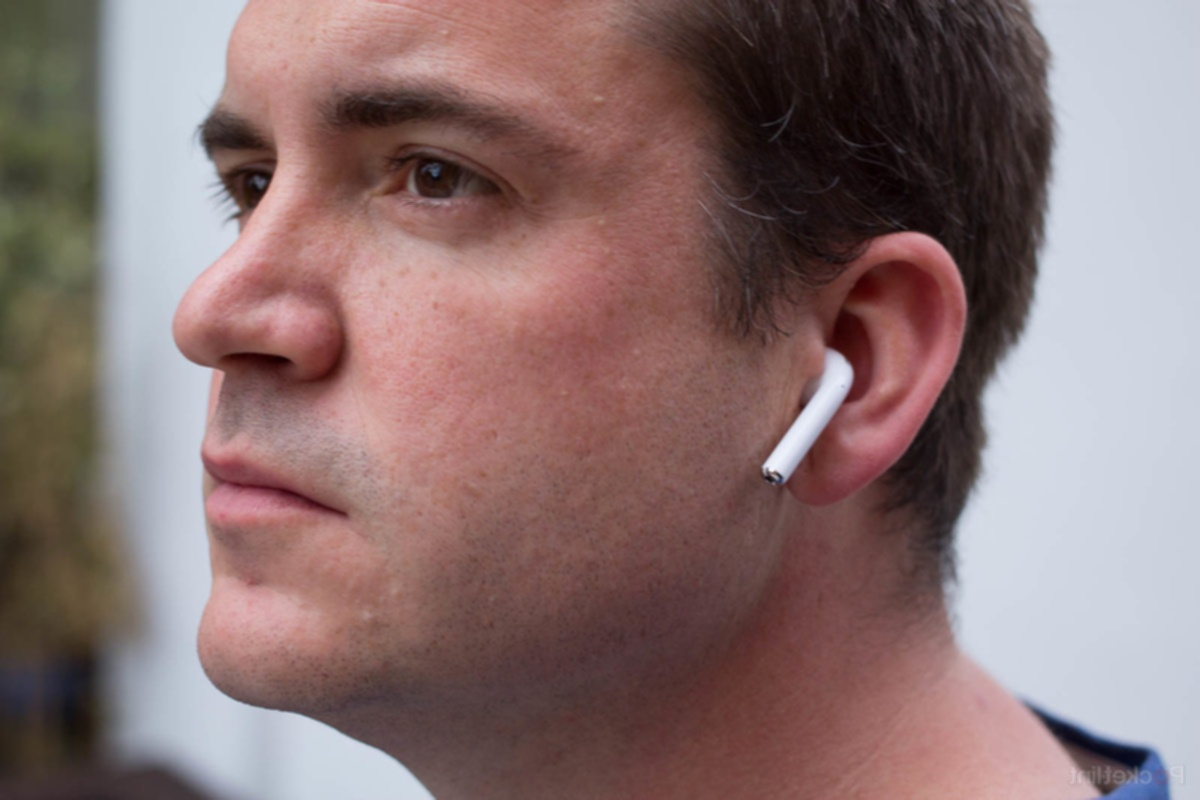earphone: (759, 232, 969, 509)
